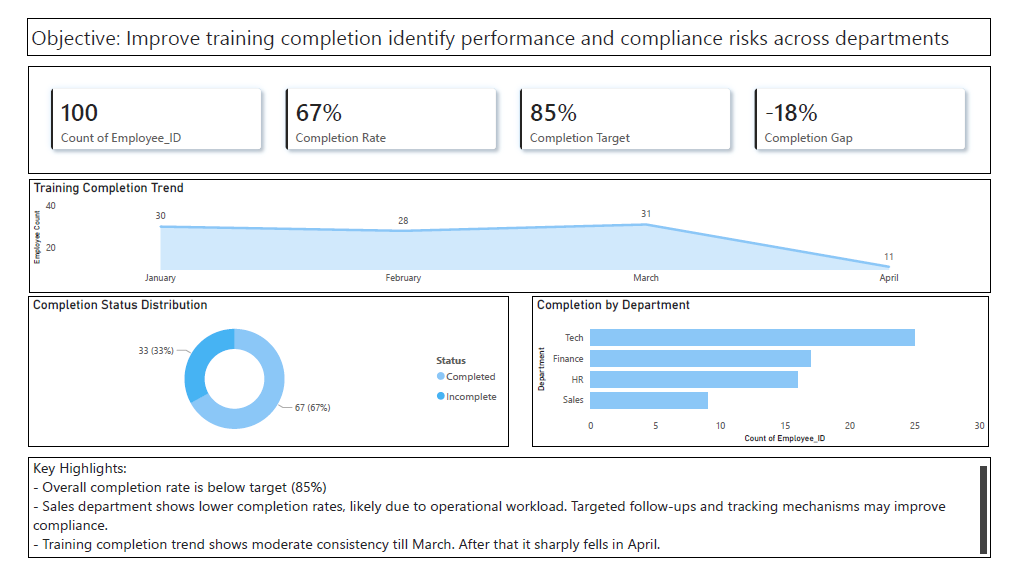

The page's visual inventory and layout, read from the dashboard file:
{"tool":"powerbi","page":{"name":"Executive Overview","canvas":[1280,720],"ordinal":0},"visuals":[{"type":"donutChart","title":"Completion Status Distribution","fields":{"Category":["Table1.Status"],"Y":["CountNonNull(Table1.Employee_ID)"]},"box":[13.2,364.5,628.9,196.1],"z":0},{"type":"clusteredBarChart","title":"Completion by Department","fields":{"Category":["Table1.Department"],"Y":["CountNonNull(Table1.Employee_ID)"]},"box":[672.6,364.5,598.5,196.1],"z":1000},{"type":"textbox","box":[13.2,575.3,1259.6,130.8],"z":2000},{"type":"cardVisual","fields":{"Data":["Count(Table1.Employee_ID)","Table1.Completion_Rate","Table1.Completion_Target","Table1.Completion_Gap"]},"box":[13.2,62.1,1259.6,140.6],"z":3000},{"type":"textbox","box":[11.5,0,1261.2,49],"z":4000},{"type":"lineChart","title":"Training Completion Trend","fields":{"Category":["Table1.Enrollment_Date.Variation.Date Hierarchy.Month","Table1.Enrollment_Date.Variation.Date Hierarchy.Day"],"Y":["CountNonNull(Table1.Employee_ID)"]},"box":[13.6,211.4,1259.1,147.7],"z":5000}]}

Visuals, with their boxes in screenshot pixels (x1, y1, x2, y2), scaled from the page's 1280x720 canvas onto the 1014x586 screenshot:
"Completion Status Distribution" donutChart: Rect(10, 297, 509, 456)
"Completion by Department" clusteredBarChart: Rect(533, 297, 1007, 456)
textbox: Rect(10, 468, 1008, 575)
cardVisual - Count(Table1.Employee_ID) x Table1.Completion_Rate: Rect(10, 51, 1008, 165)
textbox: Rect(9, 0, 1008, 40)
"Training Completion Trend" lineChart: Rect(11, 172, 1008, 292)
